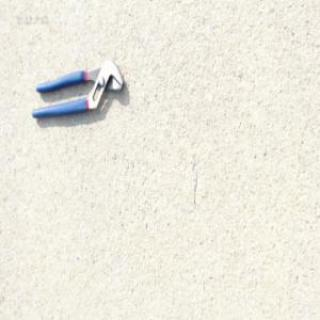Pliertrack_idkeyframe: (30, 55, 126, 117)
